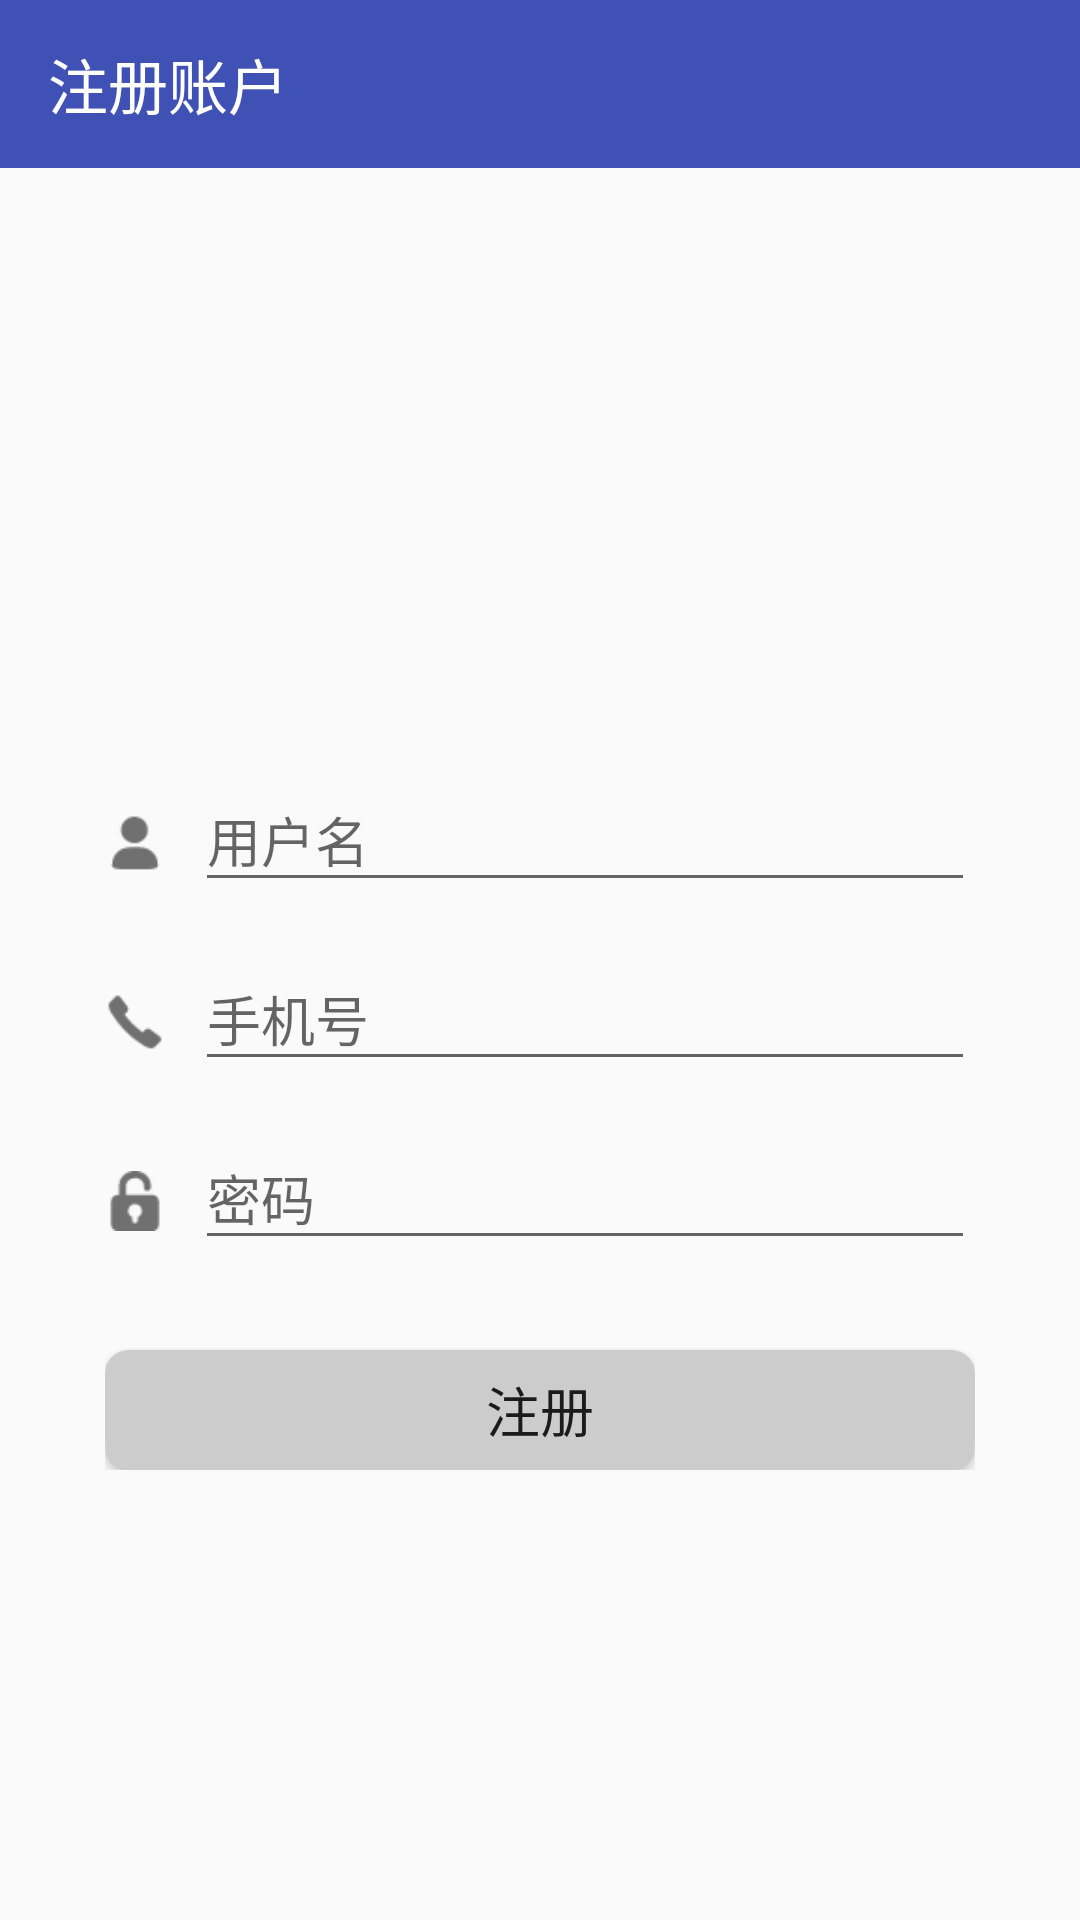

Where to tap for icons on this 1080×1920 app screen, as point (x, y):
mobile: point (135, 1022)
password: point (135, 1201)
user: point (135, 843)
